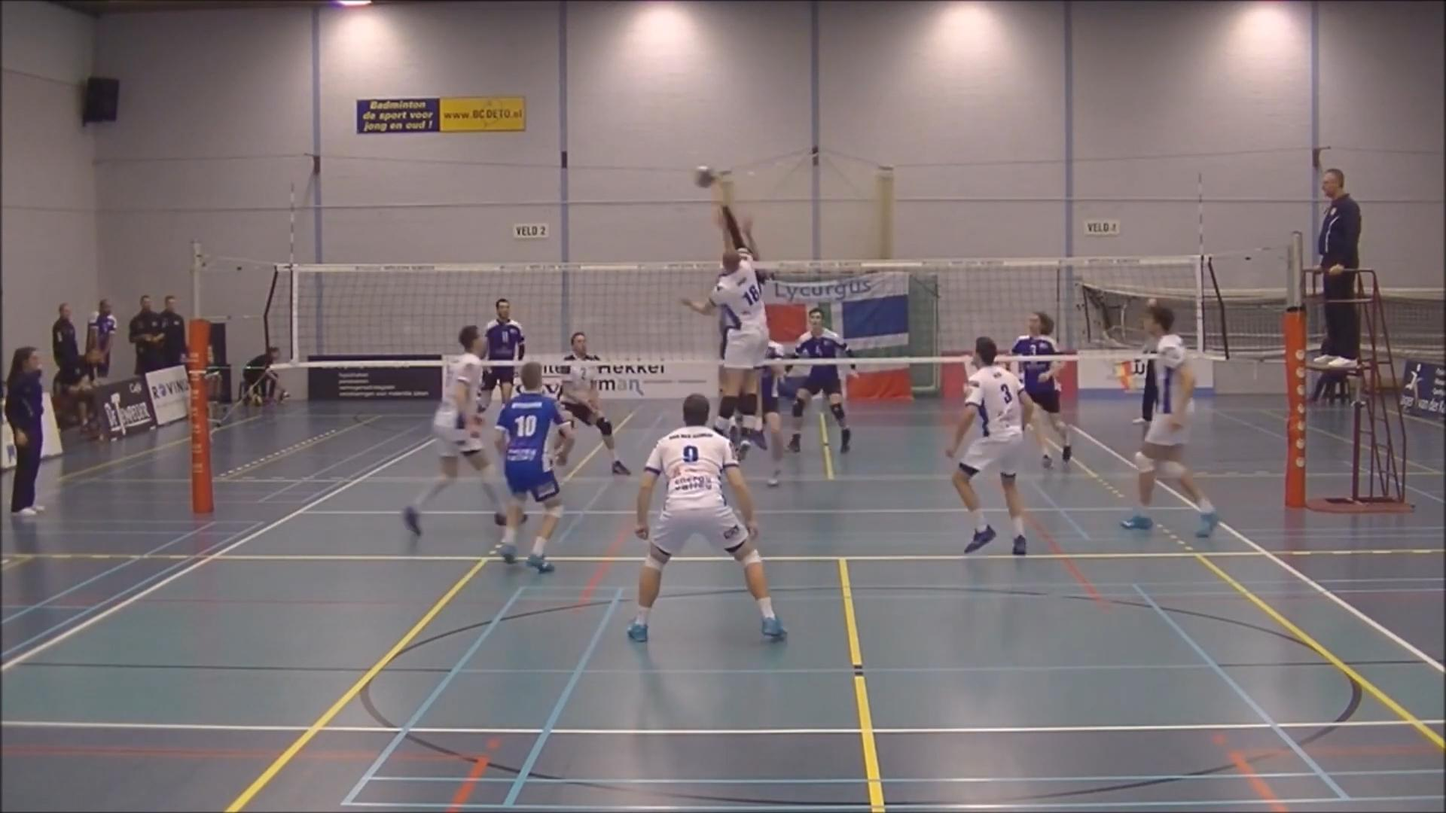Attack: (665, 225, 777, 461)
Player: (627, 394, 786, 641), (1122, 304, 1218, 537), (403, 325, 505, 537), (946, 337, 1033, 555), (496, 361, 574, 572), (559, 332, 629, 475), (1011, 312, 1071, 467), (789, 364, 851, 452), (482, 298, 524, 410), (759, 342, 787, 486), (1134, 340, 1158, 426)
ball: (692, 163, 719, 189)
